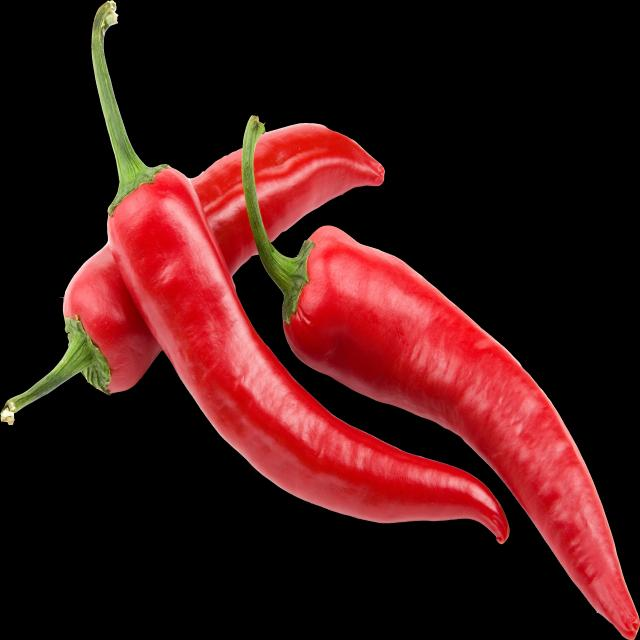red chili: (91, 1, 509, 542), (241, 116, 640, 639), (254, 123, 384, 239), (62, 244, 160, 393), (189, 149, 257, 274)
